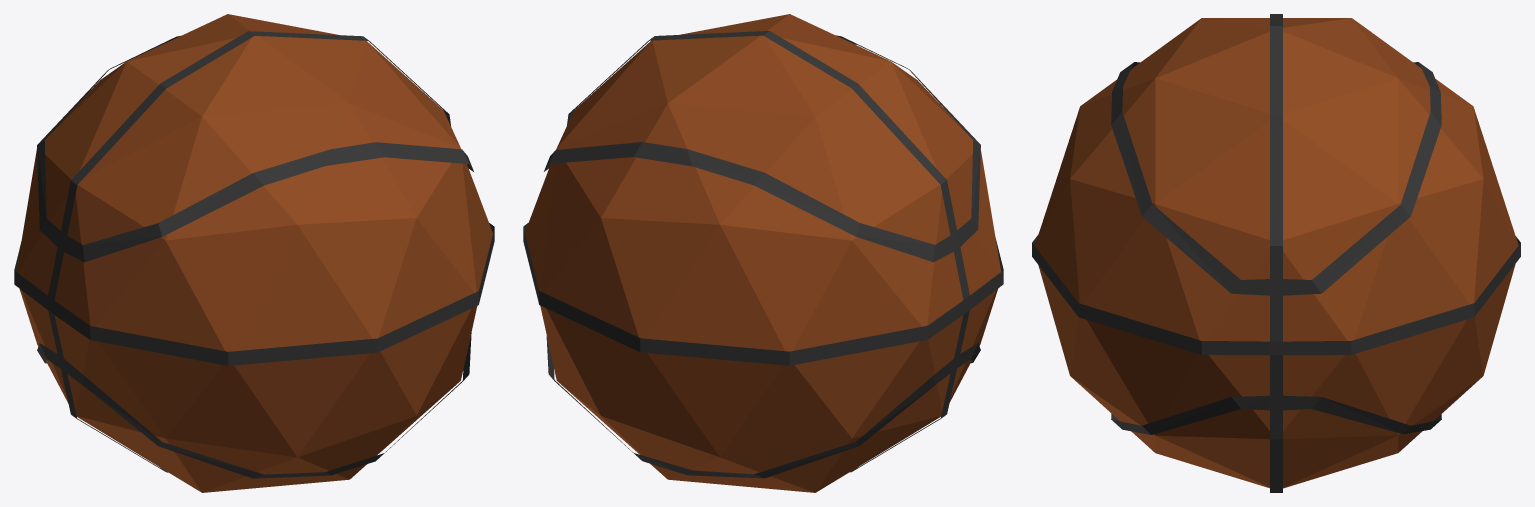
Rendered from BasketBall.fbx.
3 renders of one model, left to right at view 1: azimuth 30°, elevation 25°; view 2: azimuth 150°, elevation 25°; view 3: azimuth 270°, elevation 25°, orthographic.
Parts seen in each view (by area): view 1: BasketBall; view 2: BasketBall; view 3: BasketBall.
Boxes of the visible parts, x1,y1,x2,y2 form: BasketBall: (14, 14, 494, 492); BasketBall: (523, 14, 1003, 492); BasketBall: (1032, 14, 1520, 492).
Size of the model in its own units: 28.88 by 30.26 by 30.17.
